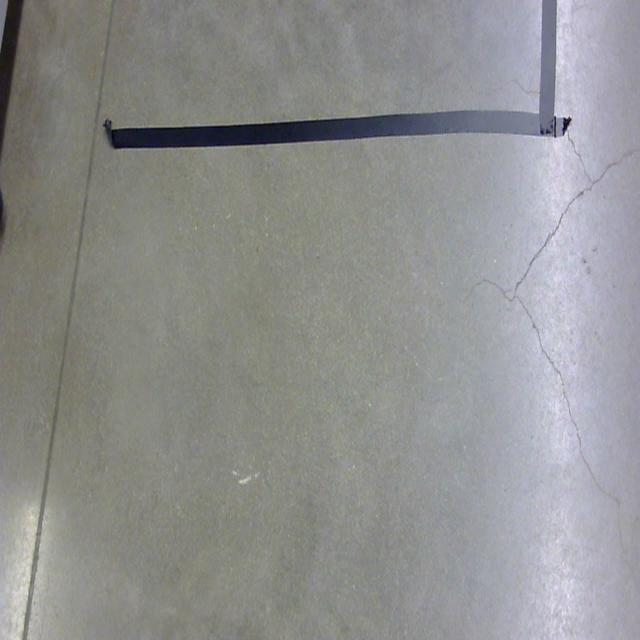tape: (106, 0, 570, 151)
